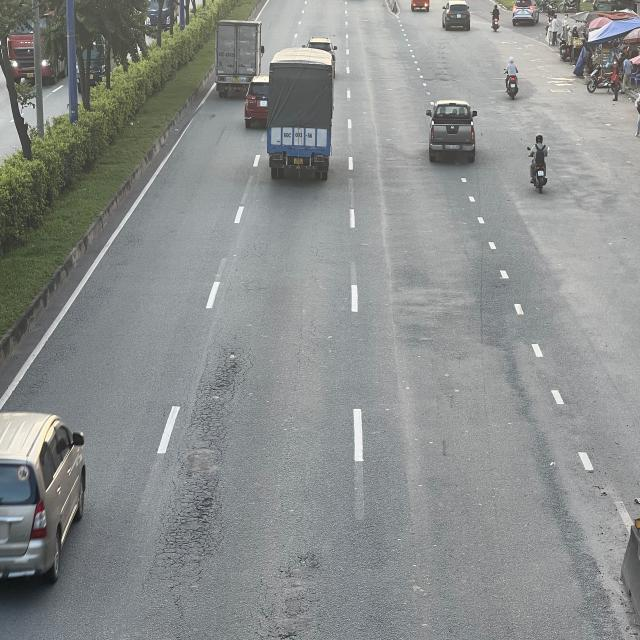car: (0, 410, 87, 585), (428, 102, 482, 165), (245, 78, 271, 128), (442, 0, 473, 30), (512, 0, 541, 25)
truck: (266, 50, 336, 183), (215, 19, 262, 96)
